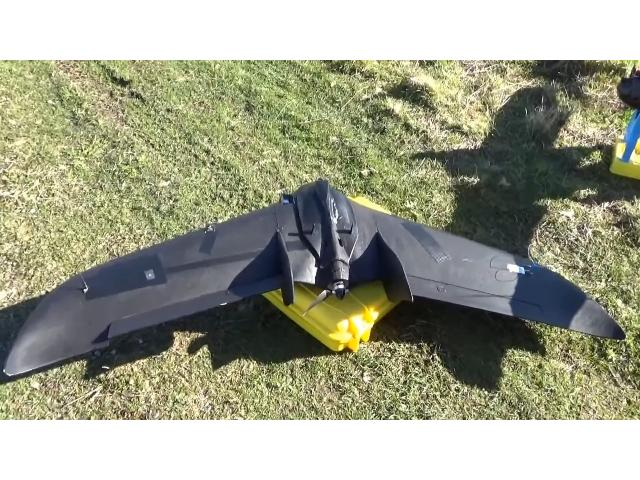Anti-Drone: (6, 147, 632, 395)
